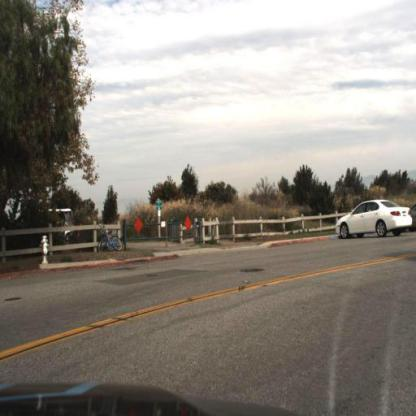car: (335, 199, 414, 243)
